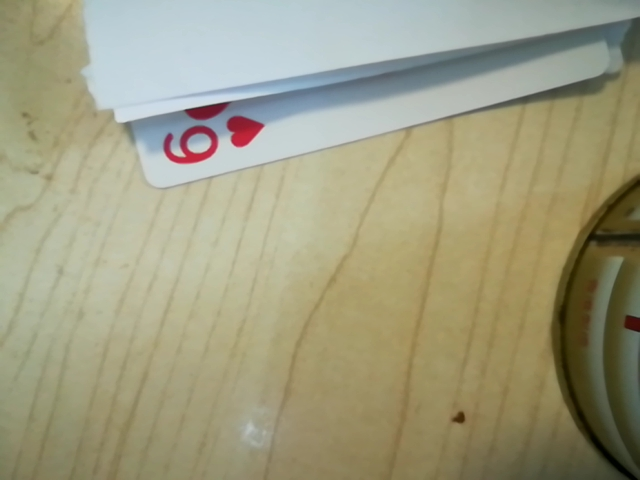hx 6: (153, 101, 261, 172)
